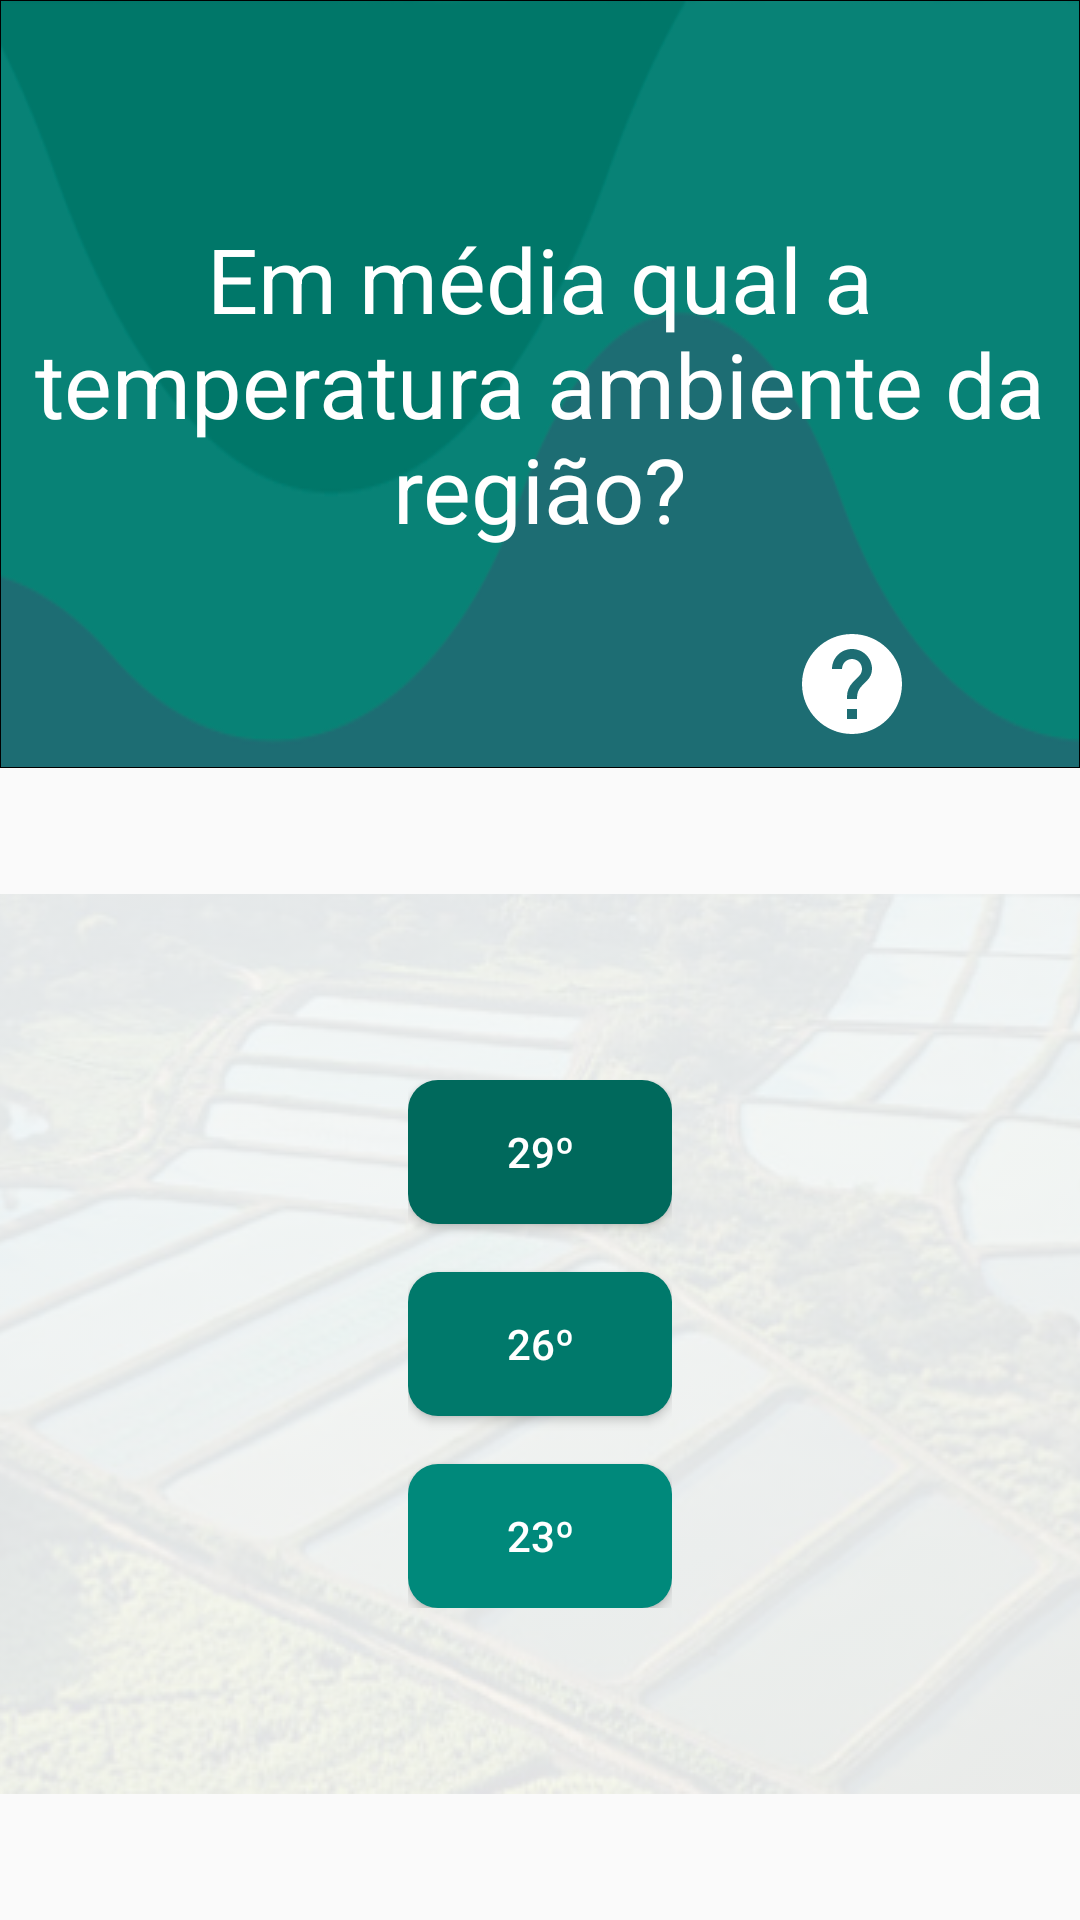

Screen size 1080x1920. Icon name, then its box in pixels as (x1, y1, x2, y2):
help: (802, 634, 902, 734)
